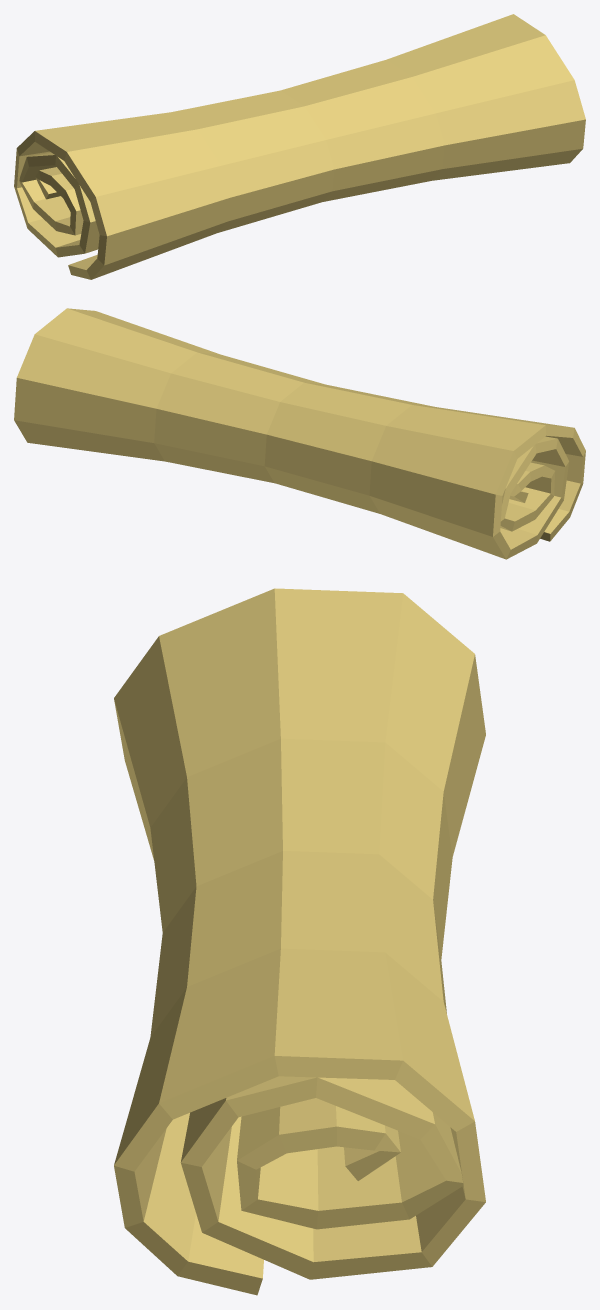
Rendered from Scroll.005.fbx.
3 renders of one model, top to bottom at view 1: azimuth 30°, elevation 25°; view 2: azimuth 150°, elevation 25°; view 3: azimuth 270°, elevation 25°, orthographic. The views are drawn at different scales.
Parts seen in each view (by area): view 1: Scroll.005; view 2: Scroll.005; view 3: Scroll.005.
Part boxes in pixels (left/top/right/bottom): Scroll.005: left=14, top=14, right=585, bottom=279; Scroll.005: left=14, top=308, right=585, bottom=559; Scroll.005: left=114, top=588, right=485, bottom=1295.
Size of the model in its own units: 48.48 by 11.48 by 16.16.
